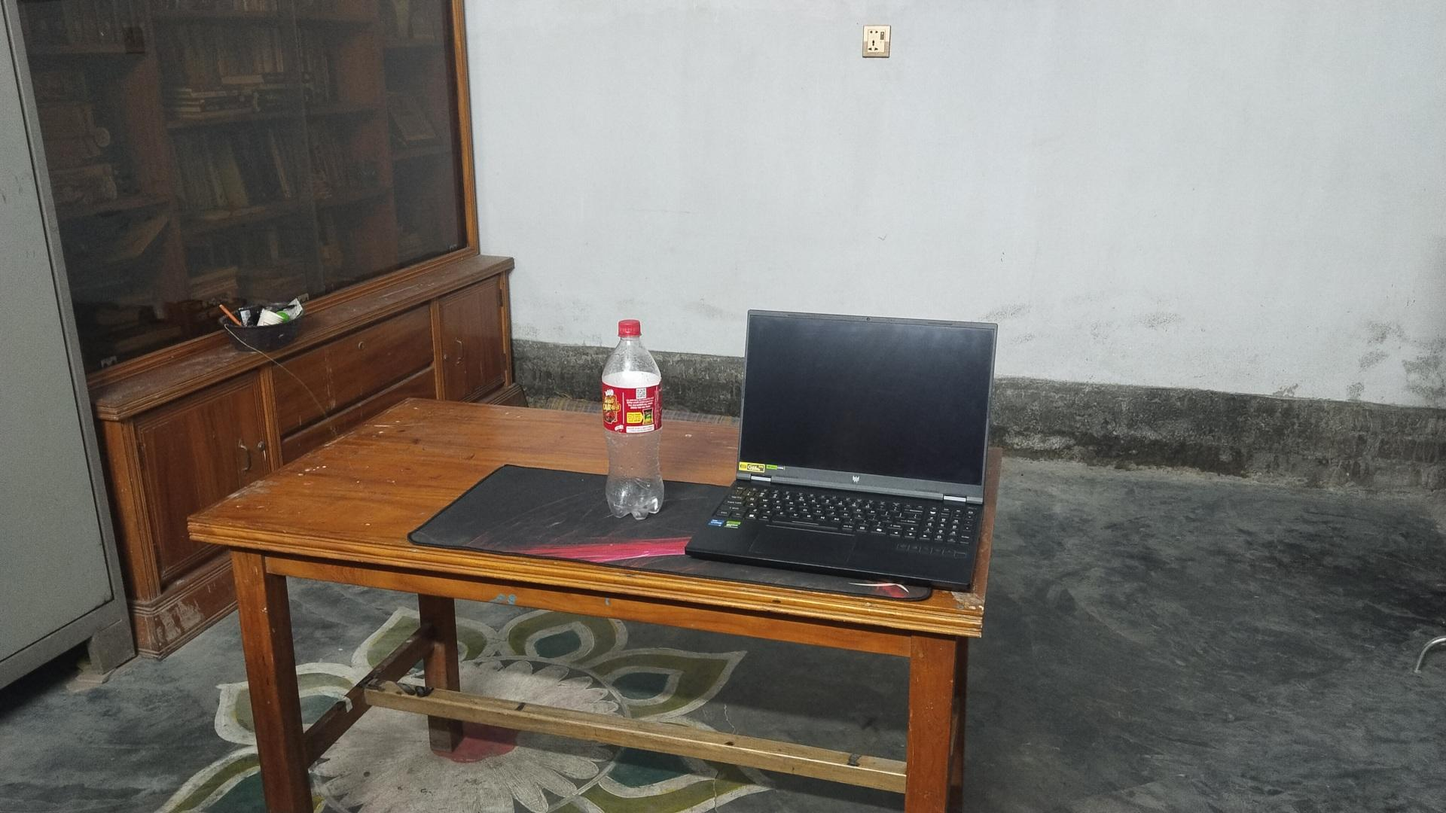Bottle: (596, 313, 666, 523)
Laptop: (692, 305, 999, 579)
Table: (190, 398, 1009, 813)
